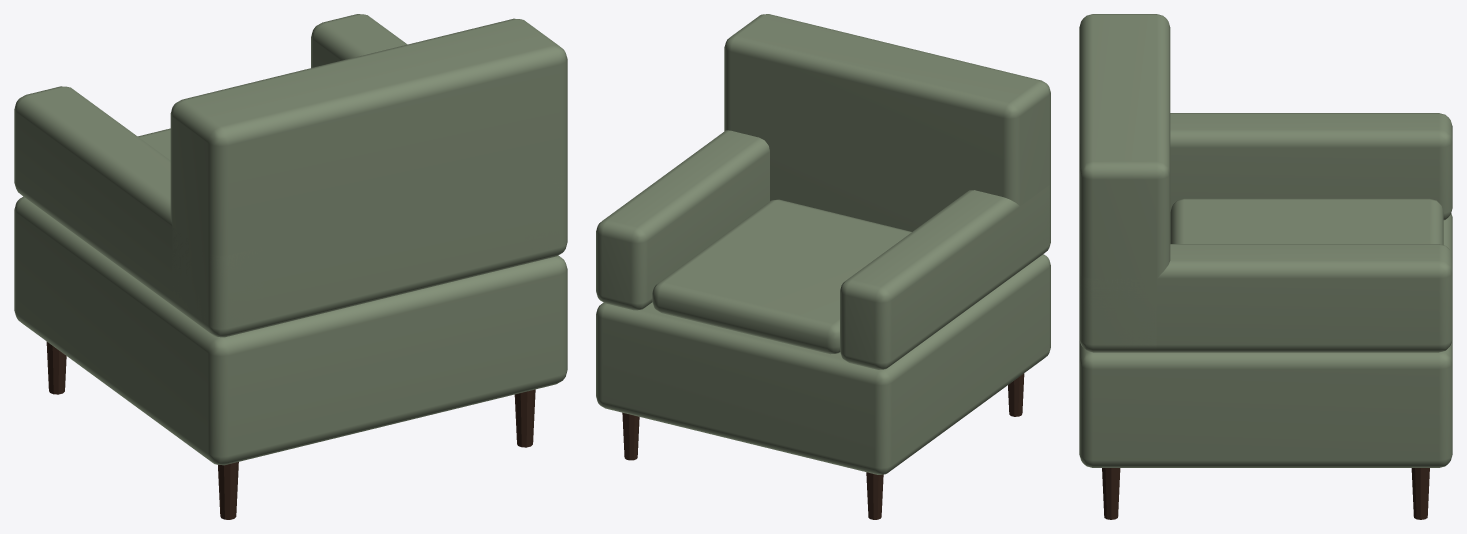
File: prop_armchair.glb
3 views of the same model, side by side, from view 1: azimuth 30°, elevation 25°; view 2: azimuth 150°, elevation 25°; view 3: azimuth 270°, elevation 25° (orthographic). The views are drawn at different scales.
Visible parts, largest first — view 1: Armchair; view 2: Armchair; view 3: Armchair.
Part boxes in pixels (bbox=[...]): Armchair: bbox=[14, 14, 567, 519]; Armchair: bbox=[596, 14, 1050, 519]; Armchair: bbox=[1079, 14, 1452, 519].
Size of what is drawn, in the model's own units: 0.82 by 0.88 by 0.82.
